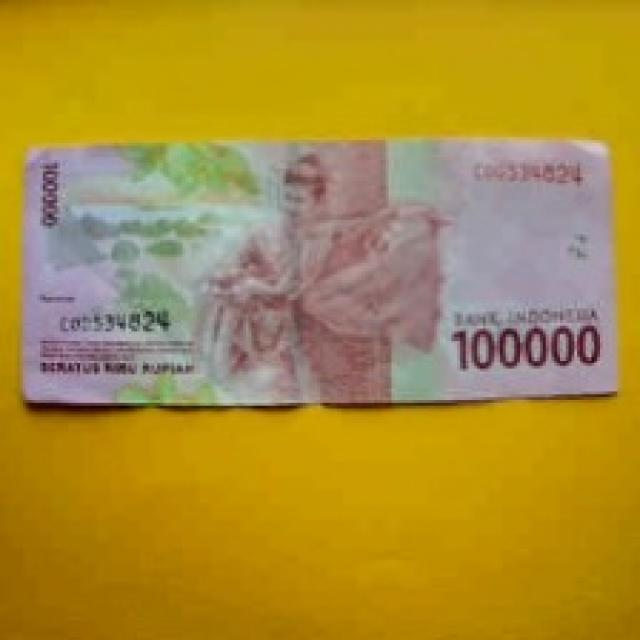lima puluh ribu rupiah: (11, 123, 640, 401)
